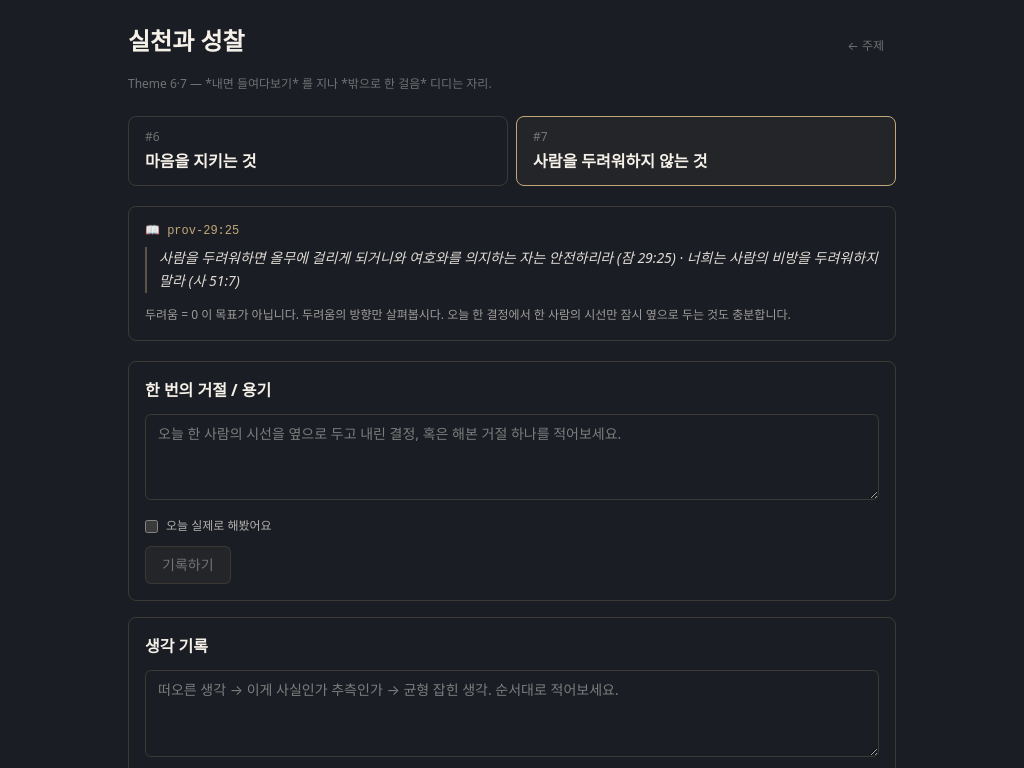
/topics/practice › 주제 버튼을 누르면 본문·진입 안내·입력 카드가 통째로 Theme 6 으로 바뀐다
Click the button "#6 마음을 지키는 것": click(201, 161) [128,116,508,186]
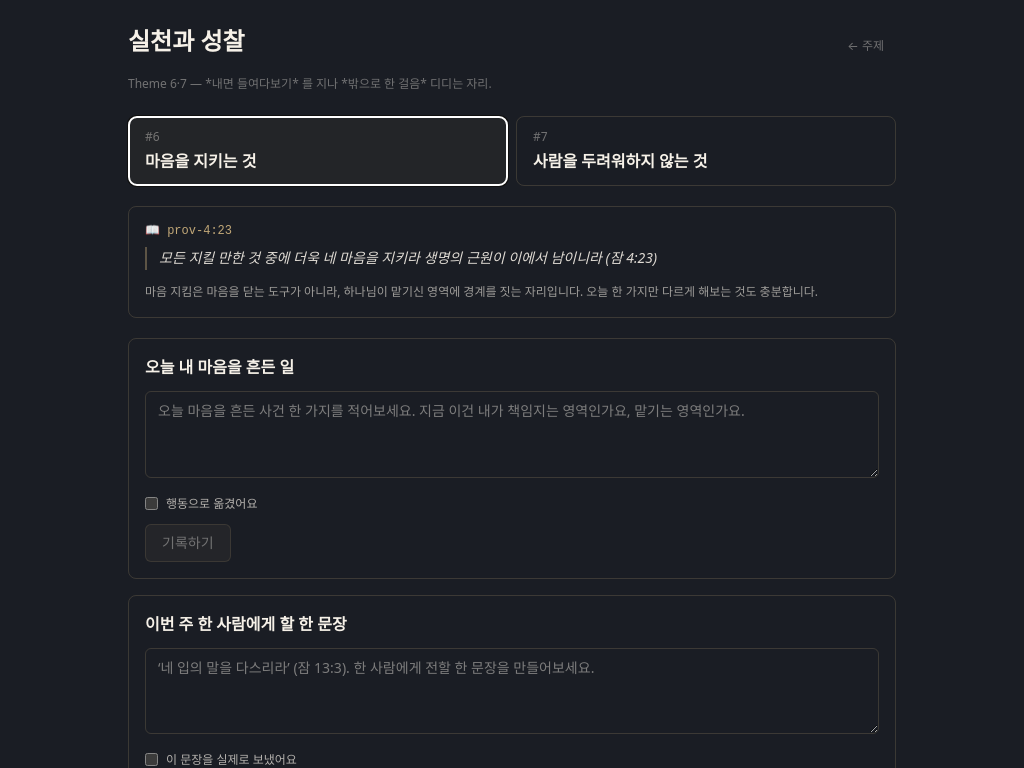
expect the text "📖 prov-4:23" is shown: met, box [145,224,232,238]
expect the text "모든 지킬 만한 것 중에 더욱 네 마음을 지키라 생명의 근원이 이에서 남이니라 (잠 4:23)" is shown: met, box [145,247,879,270]
expect the text "오늘 한 가지만 다르게 해보는 것도 충분합니다" is shown: met, box [145,283,818,300]
